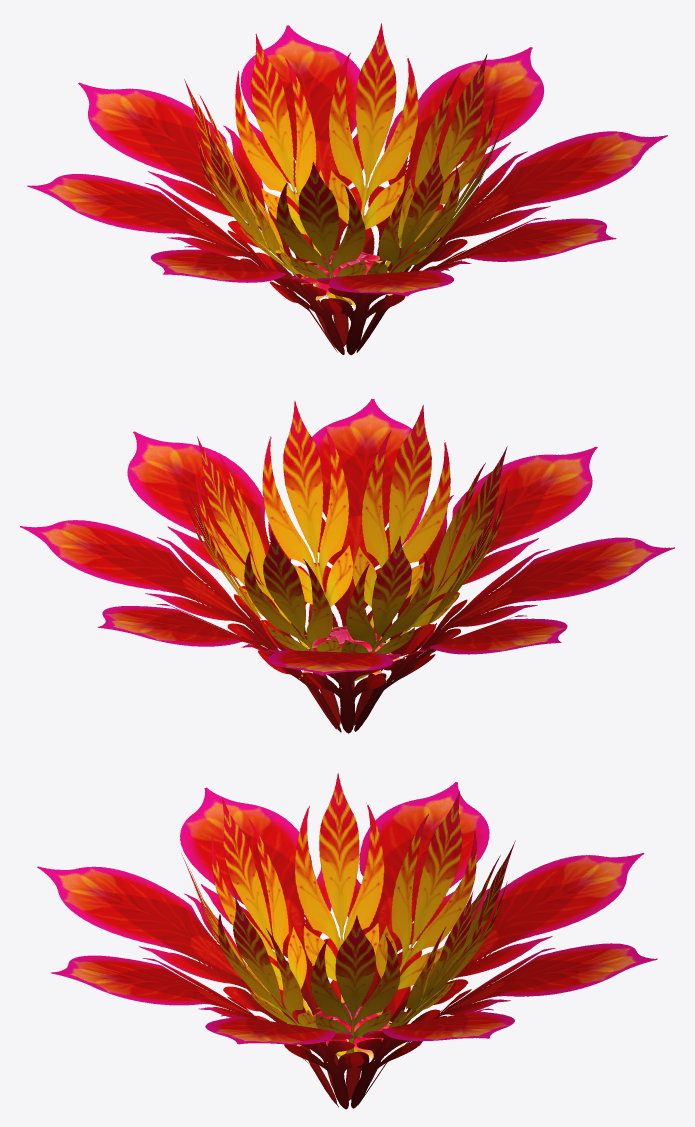
File: Red_Bush_04b.FBX
The picture shows the model from 3 angles, top to bottom: view 1: azimuth 30°, elevation 25°; view 2: azimuth 150°, elevation 25°; view 3: azimuth 270°, elevation 25°; orthographic projection.
Visible parts, largest first — view 1: Red_Bush_04b; view 2: Red_Bush_04b; view 3: Red_Bush_04b.
Part boxes in pixels (left/top/right/bottom): Red_Bush_04b: left=27, top=23, right=667, bottom=355; Red_Bush_04b: left=20, top=399, right=674, bottom=733; Red_Bush_04b: left=37, top=773, right=657, bottom=1109.
Bounding box in the file's own units: 163 × 73.1 × 163.
